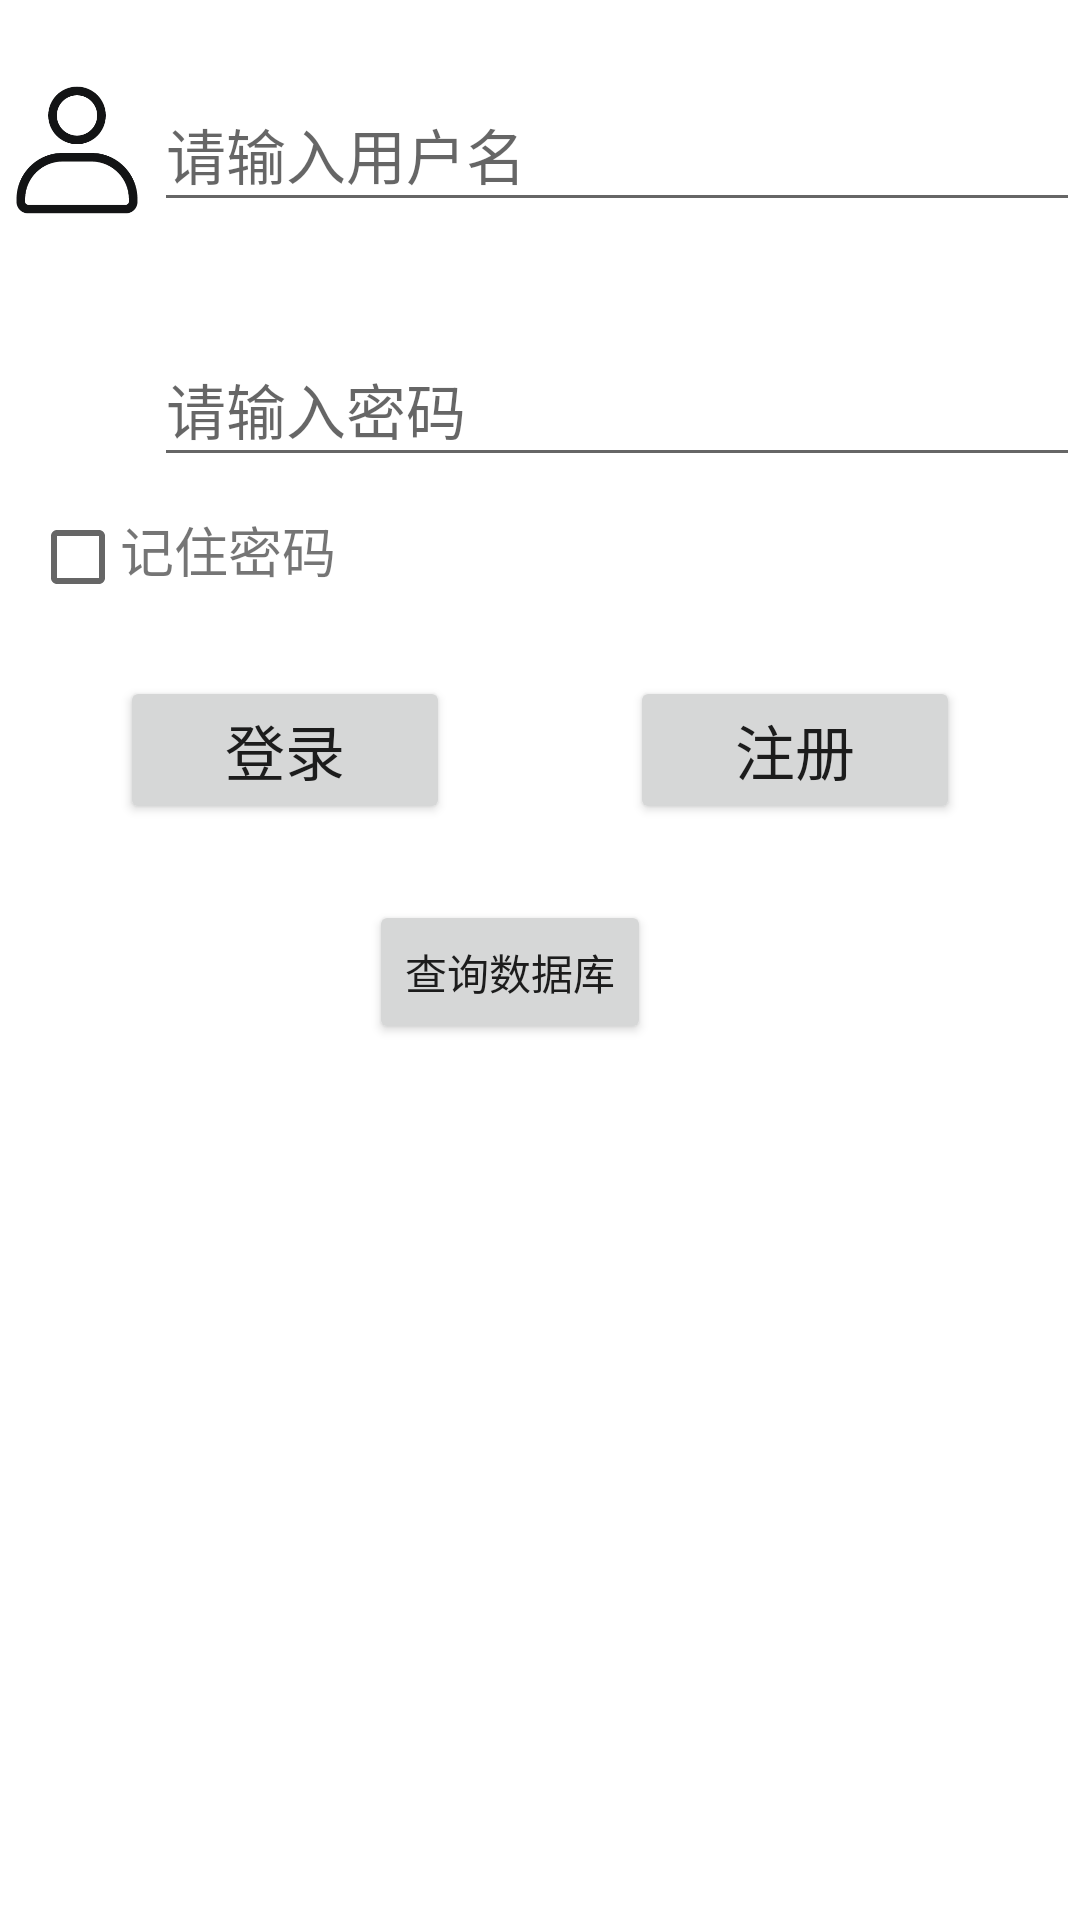

Where icons sit on this 1080px x 1920px app screen, as rect(x1, y1, x2, y2):
wodewo: rect(16, 86, 138, 214)
